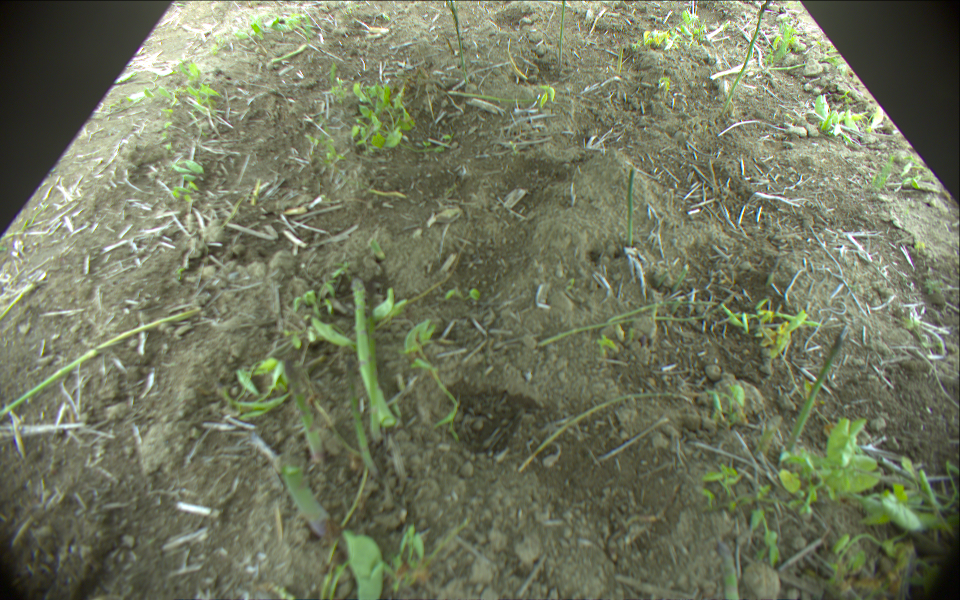aspa: (1, 308, 199, 419), (789, 323, 852, 448), (353, 280, 392, 427), (723, 1, 770, 114), (365, 298, 385, 446), (445, 86, 543, 104), (1, 280, 42, 323), (450, 1, 469, 80), (756, 55, 844, 71), (623, 164, 638, 254), (558, 1, 568, 61)
